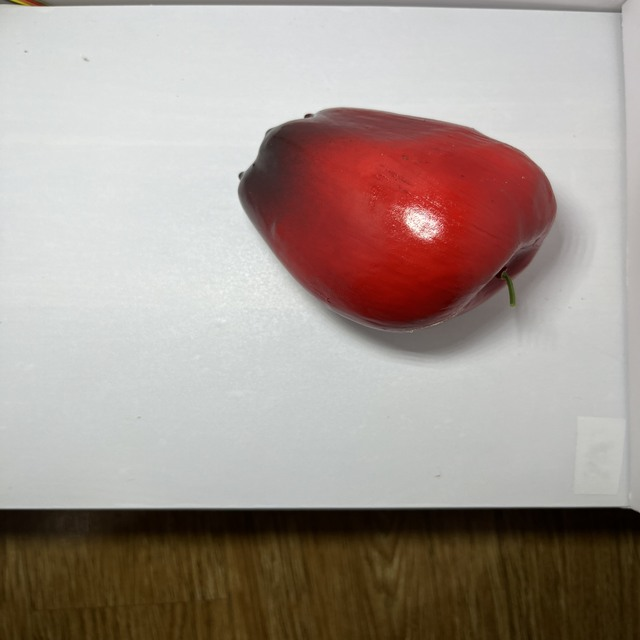Tao: (196, 22, 597, 409)
